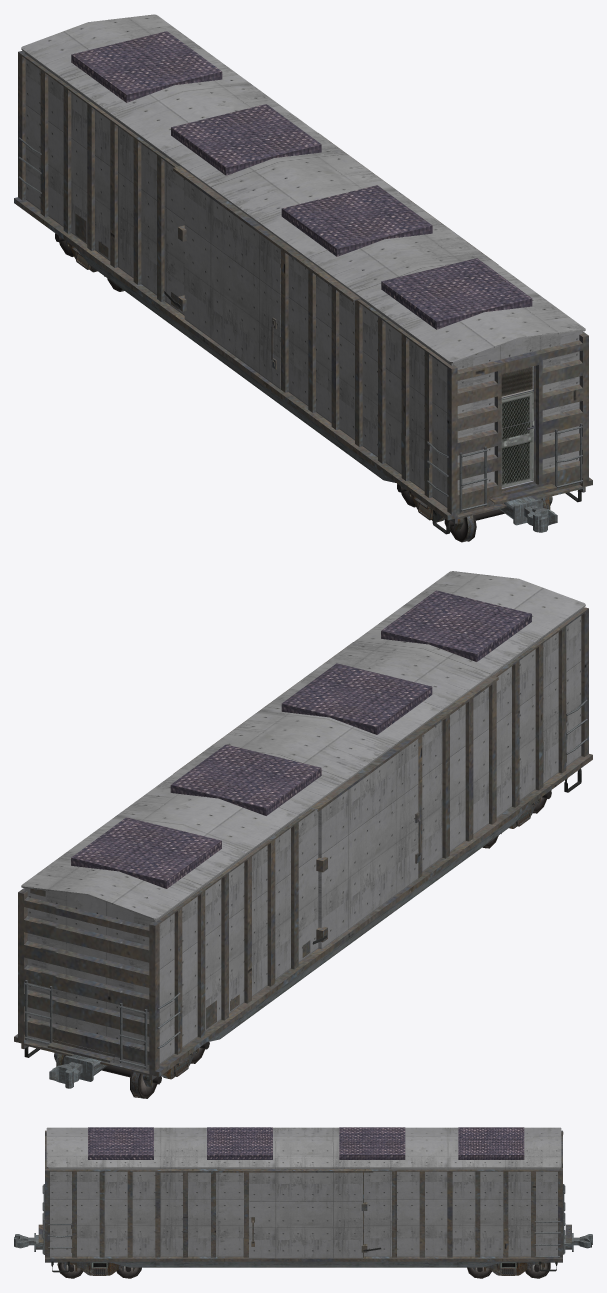
Rendered from TrainCabin_2.FBX.
The picture shows the model from 3 angles, top to bottom: view 1: azimuth 30°, elevation 25°; view 2: azimuth 150°, elevation 25°; view 3: azimuth 270°, elevation 25°; orthographic projection. The views are drawn at different scales.
Parts seen in each view (by area): view 1: Body; view 2: Body; view 3: Body, Wheel_B2, Wheel_F1.
Boxes of the visible parts, <box> form: Body: <box>14,14,592,534</box>; Body: <box>14,571,592,1088</box>; Body: <box>14,1127,592,1275</box>; Wheel_B2: <box>525,1262,550,1278</box>; Wheel_F1: <box>57,1262,83,1278</box>.
Size of the model in its own units: 61.74 by 83.8 by 347.
Materials: 2 (2 with a texture image).
